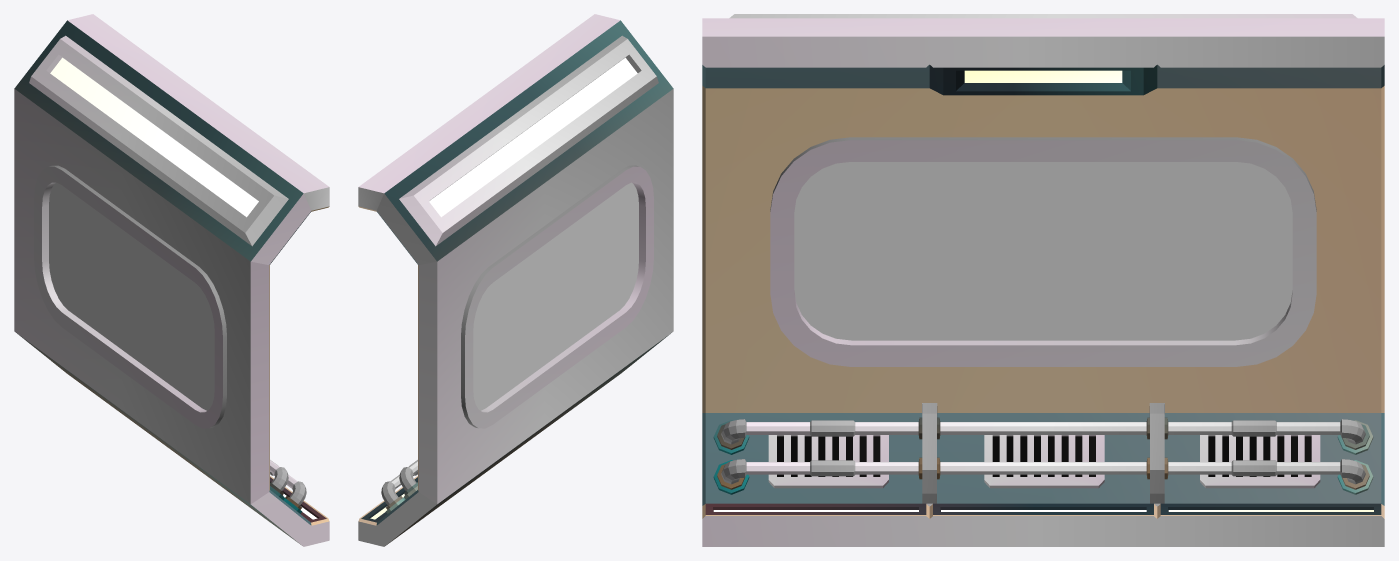
File: C_Window_NoFloor_NoCeiling.fbx
3 renders of one model, left to right at view 1: azimuth 30°, elevation 25°; view 2: azimuth 150°, elevation 25°; view 3: azimuth 270°, elevation 25°, orthographic. The views are drawn at different scales.
Parts seen in each view (by area): view 1: C_Window_NoFloor_NoCeiling; view 2: C_Window_NoFloor_NoCeiling; view 3: C_Window_NoFloor_NoCeiling.
Boxes of the visible parts, left/top/right/bottom form: C_Window_NoFloor_NoCeiling: left=14, top=14, right=329, bottom=546; C_Window_NoFloor_NoCeiling: left=358, top=14, right=673, bottom=546; C_Window_NoFloor_NoCeiling: left=702, top=14, right=1384, bottom=546.
Size of the model in its own units: 81 by 330 by 400.
